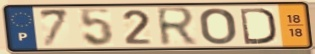2: (121, 9, 154, 46)
5: (76, 7, 117, 49)
7: (39, 8, 71, 49)
D: (238, 6, 278, 46)
O: (198, 7, 238, 46)
R: (154, 5, 200, 49)
